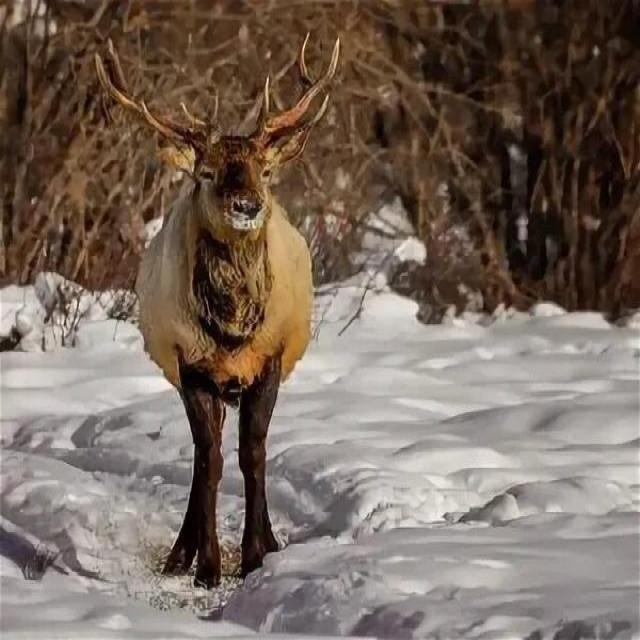deer: (107, 85, 435, 582)
